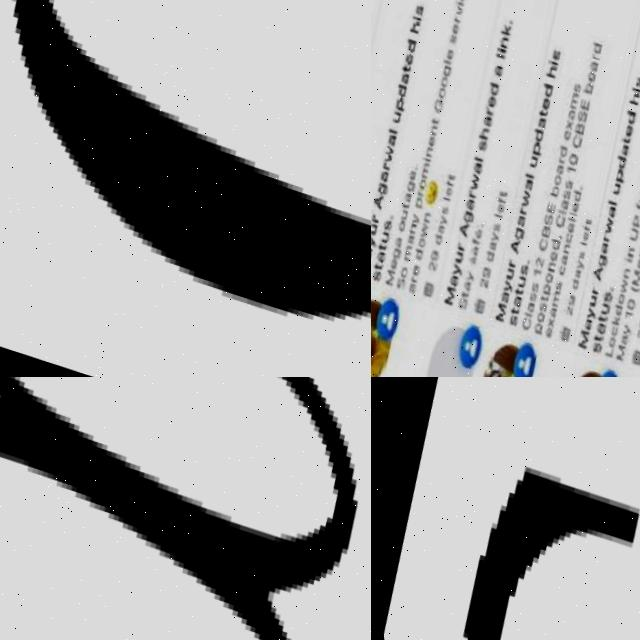0: (560, 150, 572, 163), (615, 295, 627, 308)
1: (615, 308, 623, 315), (525, 267, 532, 274), (560, 164, 567, 171)
2: (525, 254, 537, 267), (470, 276, 479, 286), (626, 326, 635, 336), (420, 259, 428, 269), (555, 303, 563, 313)
9: (471, 263, 483, 277), (557, 291, 567, 304), (422, 248, 432, 260), (628, 315, 638, 327)
C: (6, 0, 371, 318)
S: (375, 410, 640, 640)
X: (0, 377, 371, 640)
